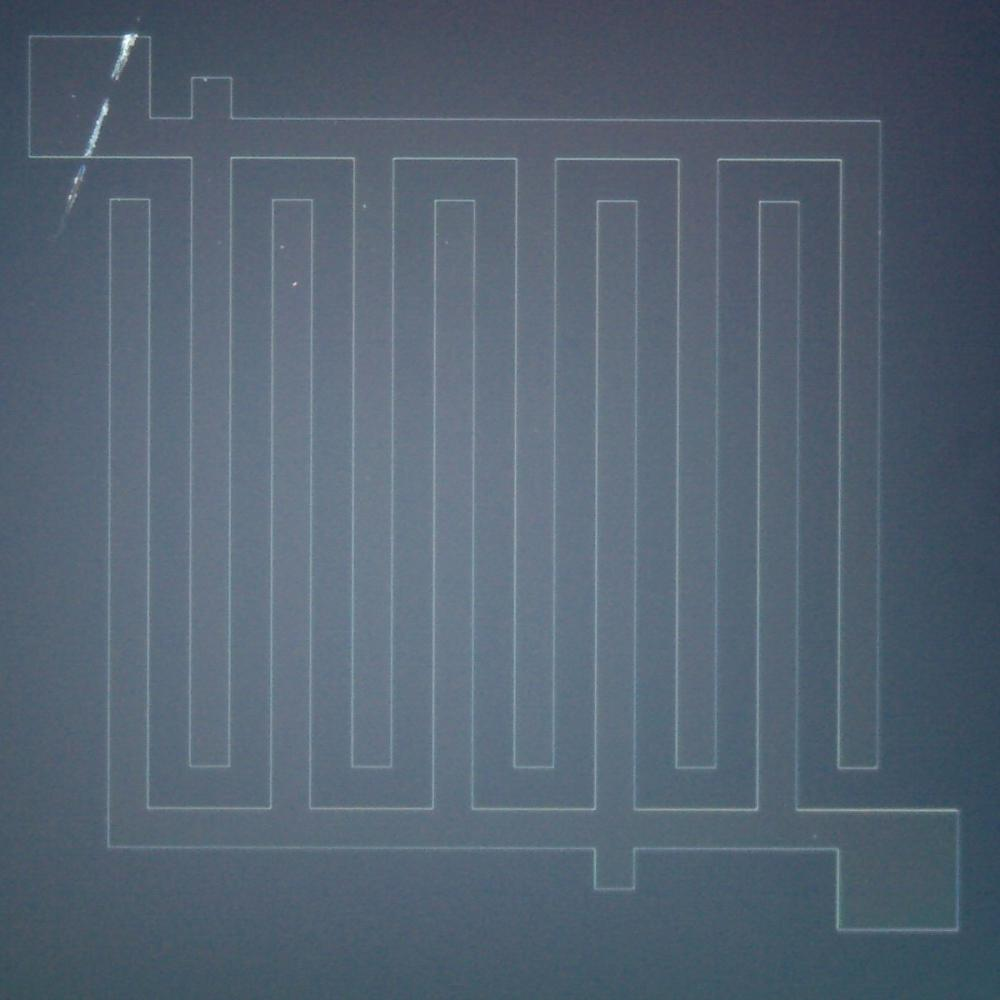dot: (292, 282, 298, 286), (280, 245, 284, 249)
straight: (101, 40, 143, 81), (56, 164, 97, 205), (75, 109, 117, 149)
